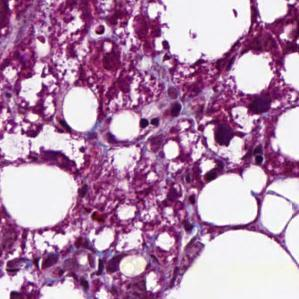inflammation: (215, 124, 239, 150), (248, 92, 273, 116), (140, 118, 169, 131), (254, 143, 266, 169), (205, 173, 222, 181)
